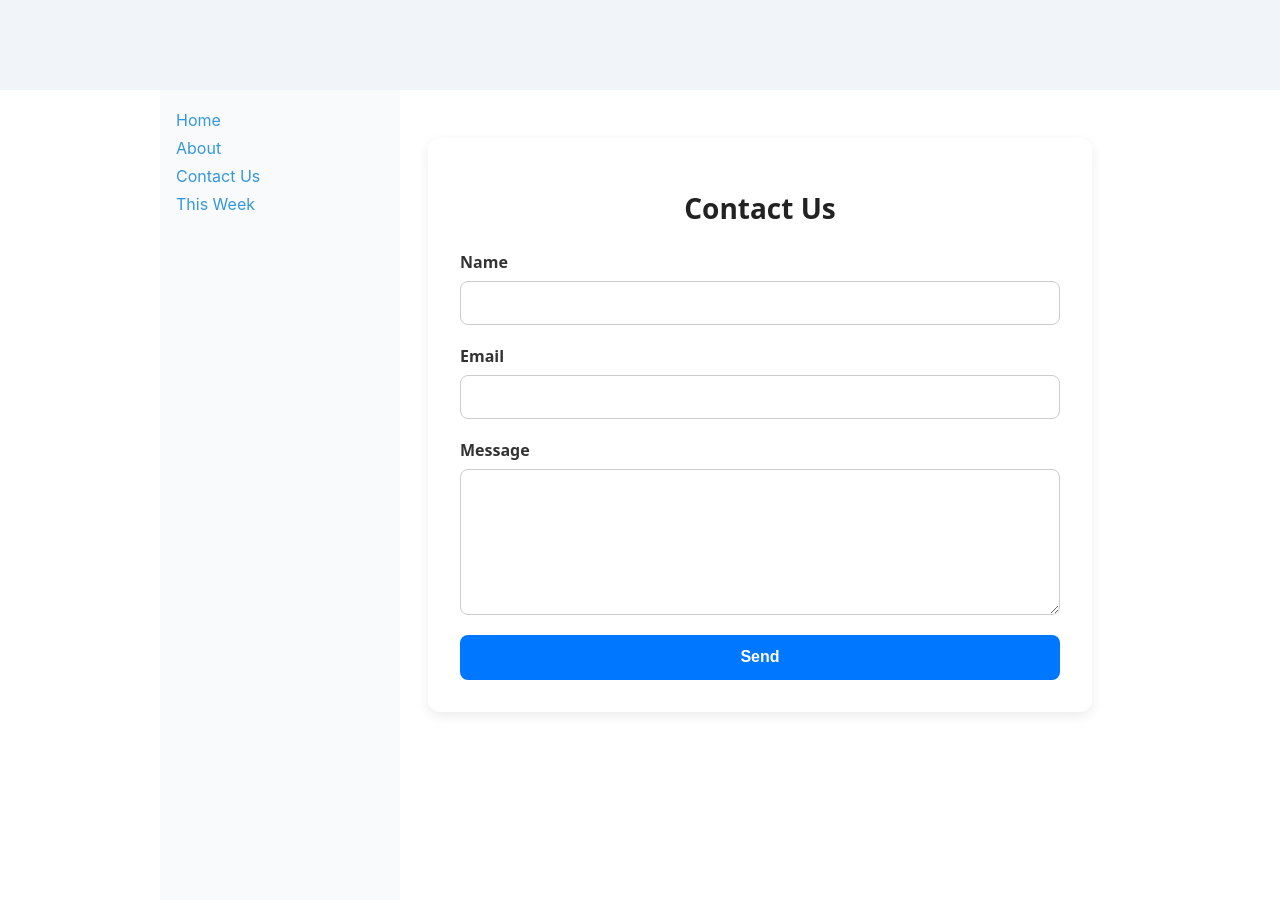
Scenario: ContactUs Page › shows server error when API fails
In the field labelled "Name": (760, 303) [460, 281, 1060, 325], type "Jane Doe"
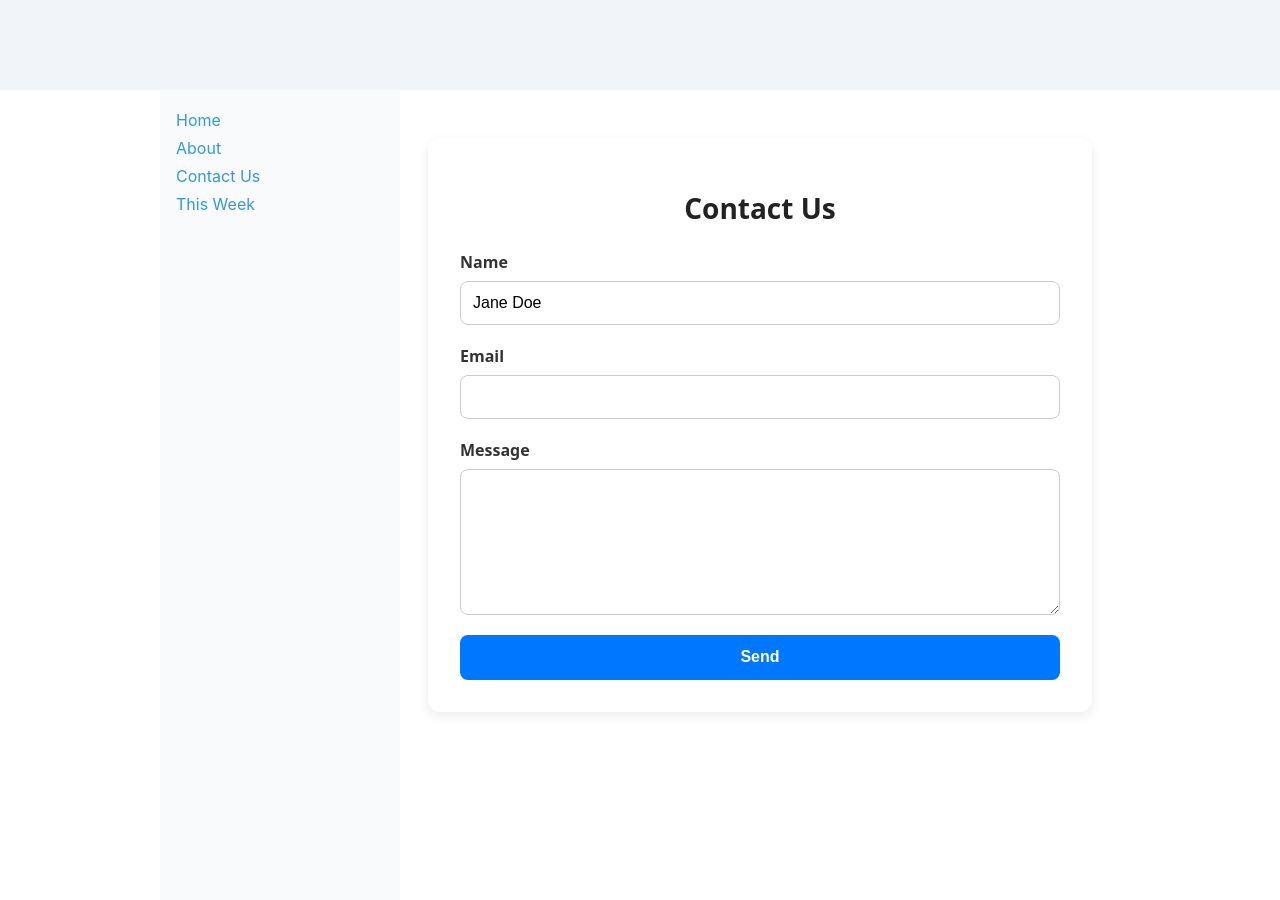
In the field labelled "Email": (760, 397) [460, 375, 1060, 419], type "jane@example.com"
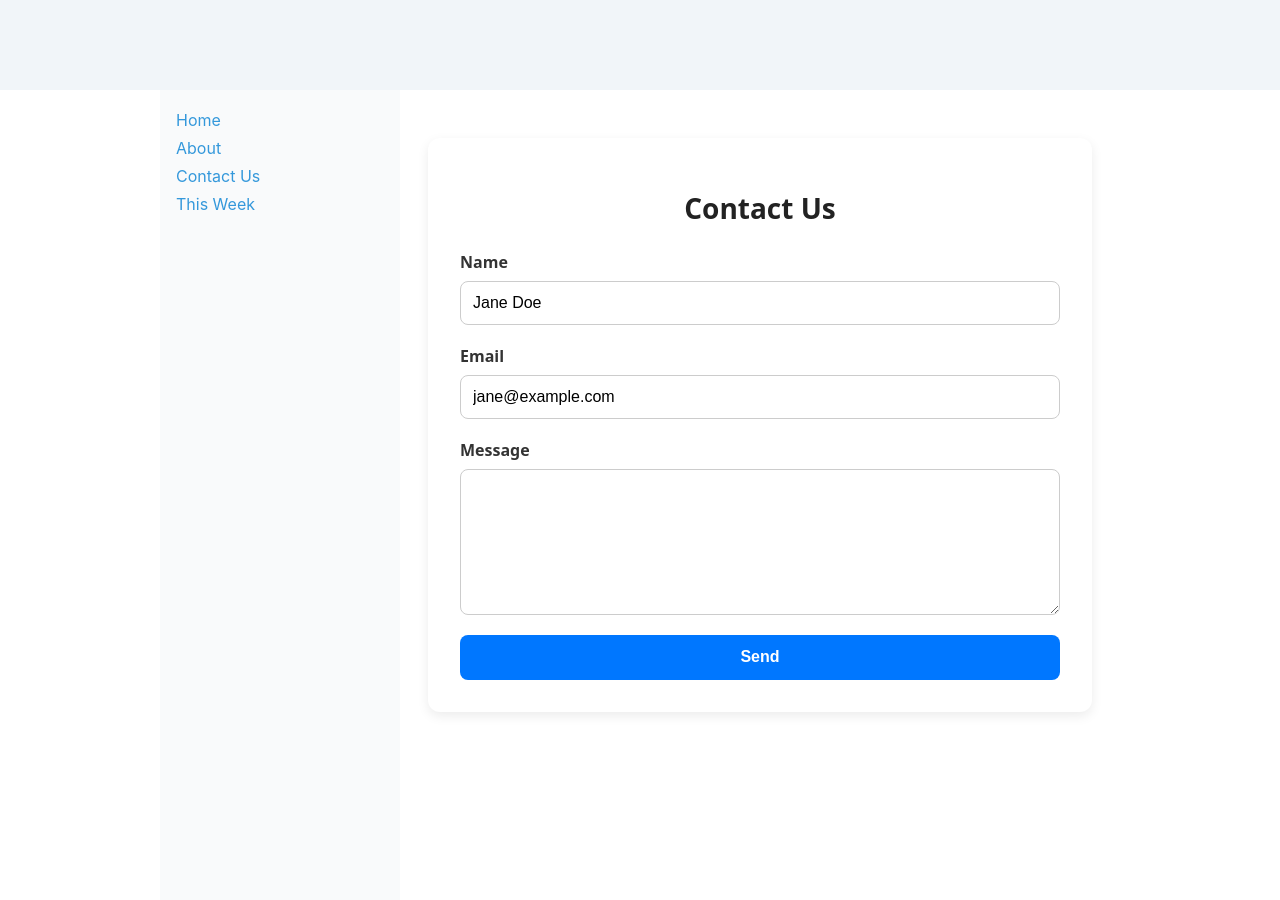
In the text box labelled "Message": (760, 542) [460, 469, 1060, 615], type "Help me!"
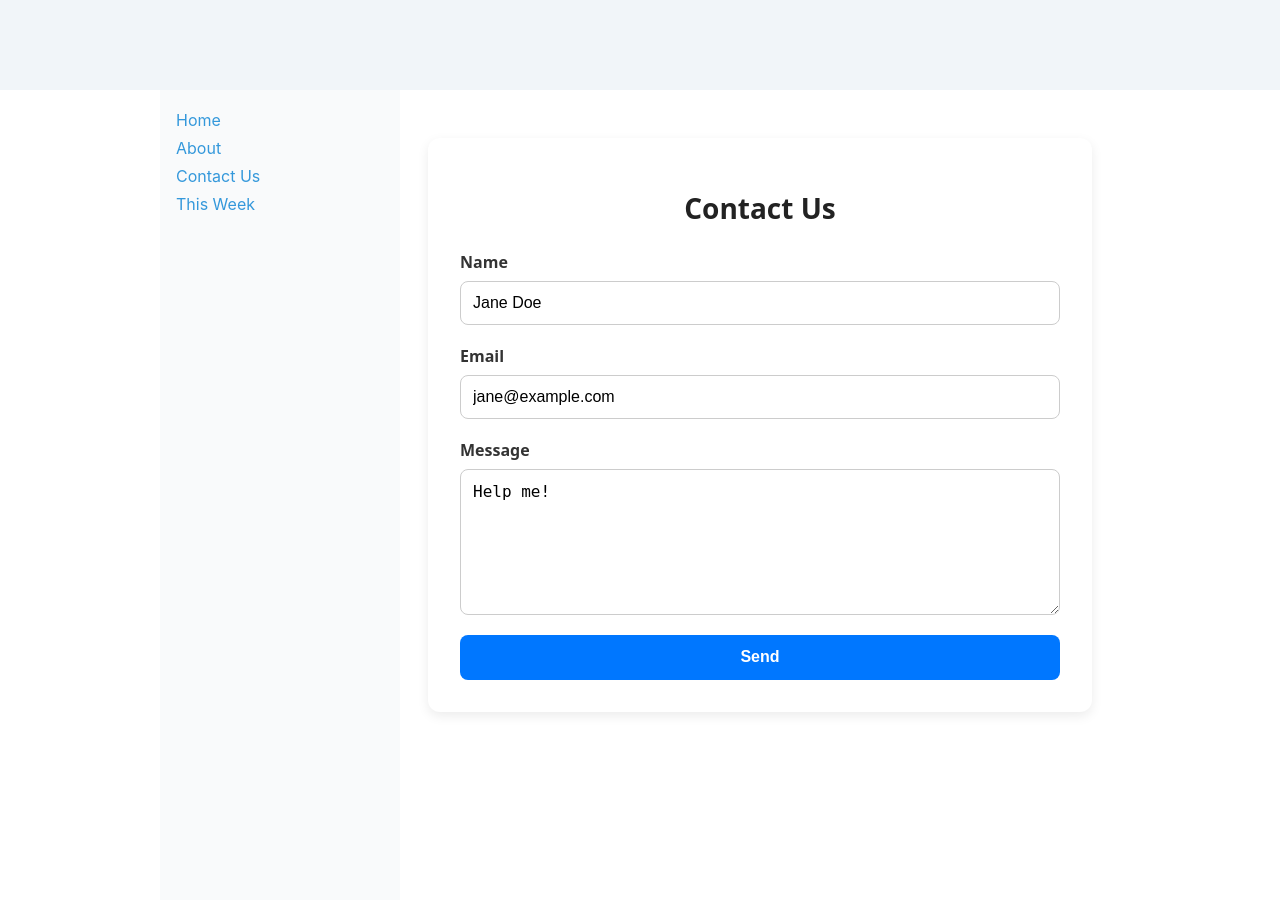
Click the button "Send": (760, 657) [460, 635, 1060, 680]
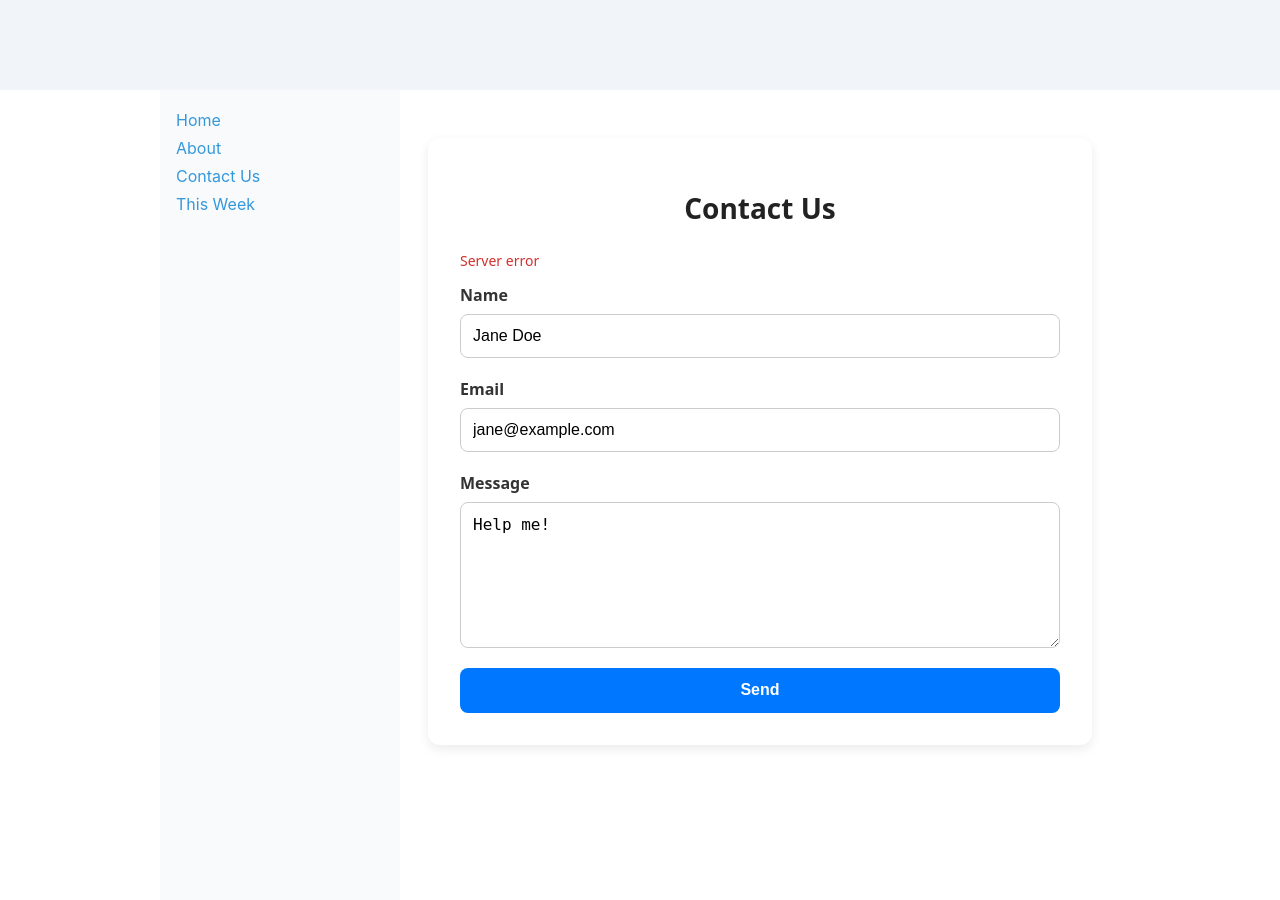
Now the text "Server error" is shown, box [460, 251, 539, 270]
